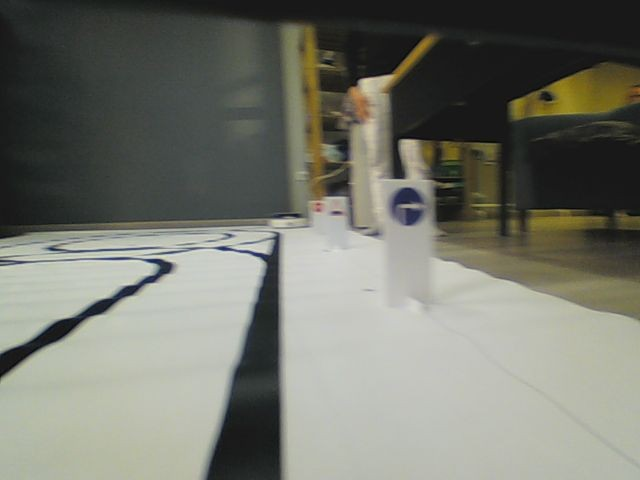Right: (388, 185, 426, 228)
